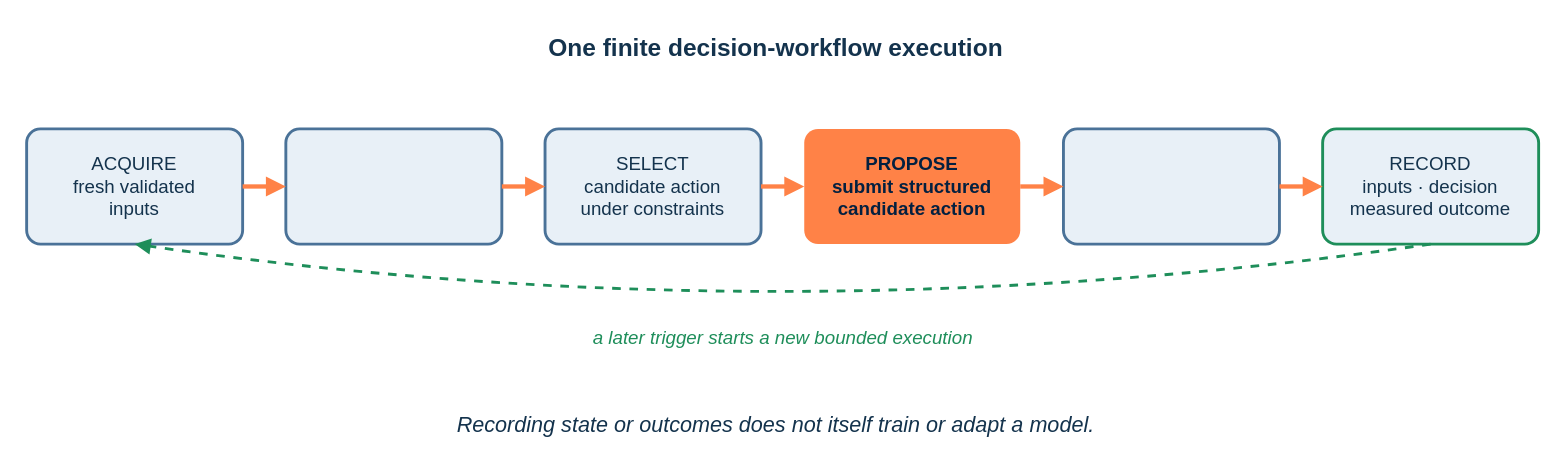
The diagram is 1564 pixels wide and 467 high, and some of its shapes have lost their labels. The centre of each missing label's shape, as x and y in pixels:
"EVALUATE apply baseline and policy" belongs at pixel 393 186.
"MEASURE read simulated outcome" belongs at pixel 1170 186.
